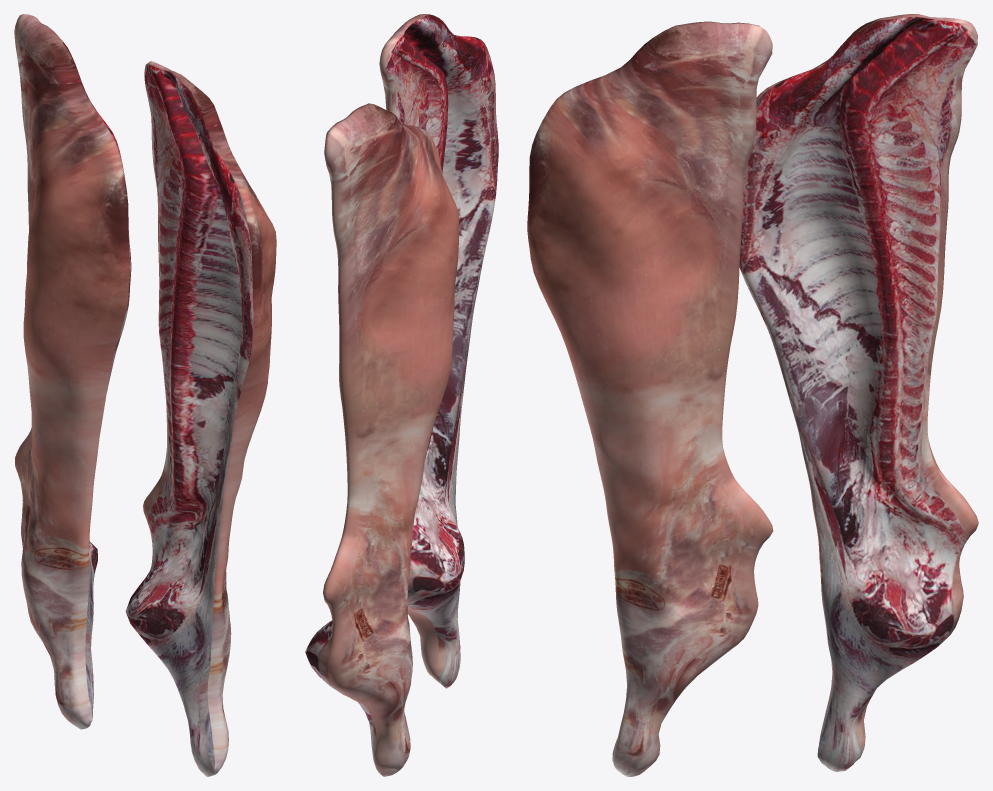
Rendered from Cordero_en_Canal.obj.
3 views of the same model, side by side, from view 1: azimuth 30°, elevation 25°; view 2: azimuth 150°, elevation 25°; view 3: azimuth 270°, elevation 25° (orthographic). The views are drawn at different scales.
Parts seen in each view (by area): view 1: interior, exterior; view 2: exterior, interior; view 3: interior, exterior.
Part boxes in pixels (x1=…): interior: x1=125, y1=61, x2=276, y2=776; exterior: x1=14, y1=14, x2=131, y2=729; exterior: x1=305, y1=103, x2=459, y2=776; interior: x1=379, y1=14, x2=498, y2=688; interior: x1=527, y1=21, x2=773, y2=776; exterior: x1=739, y1=14, x2=978, y2=771.
Bounding box in the file's own units: 5.09 × 23.25 × 12.37.
